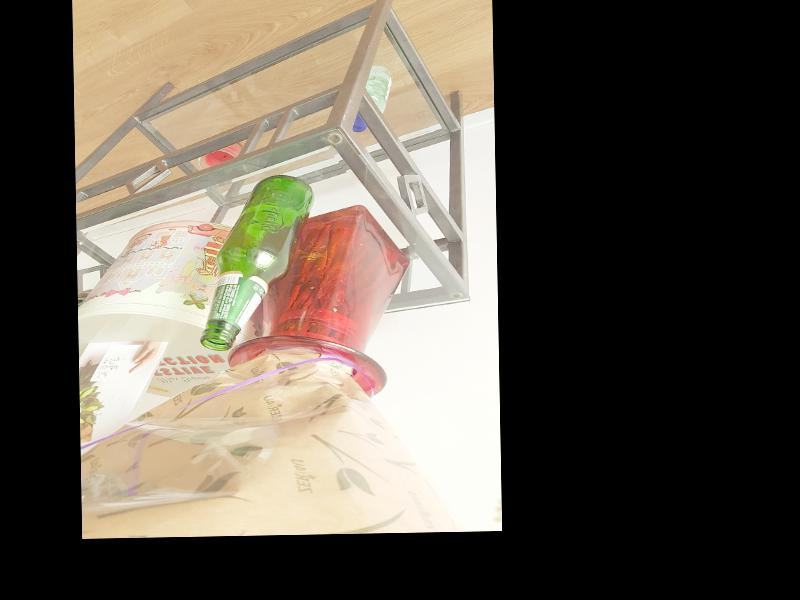Beer: (199, 174, 316, 351)
